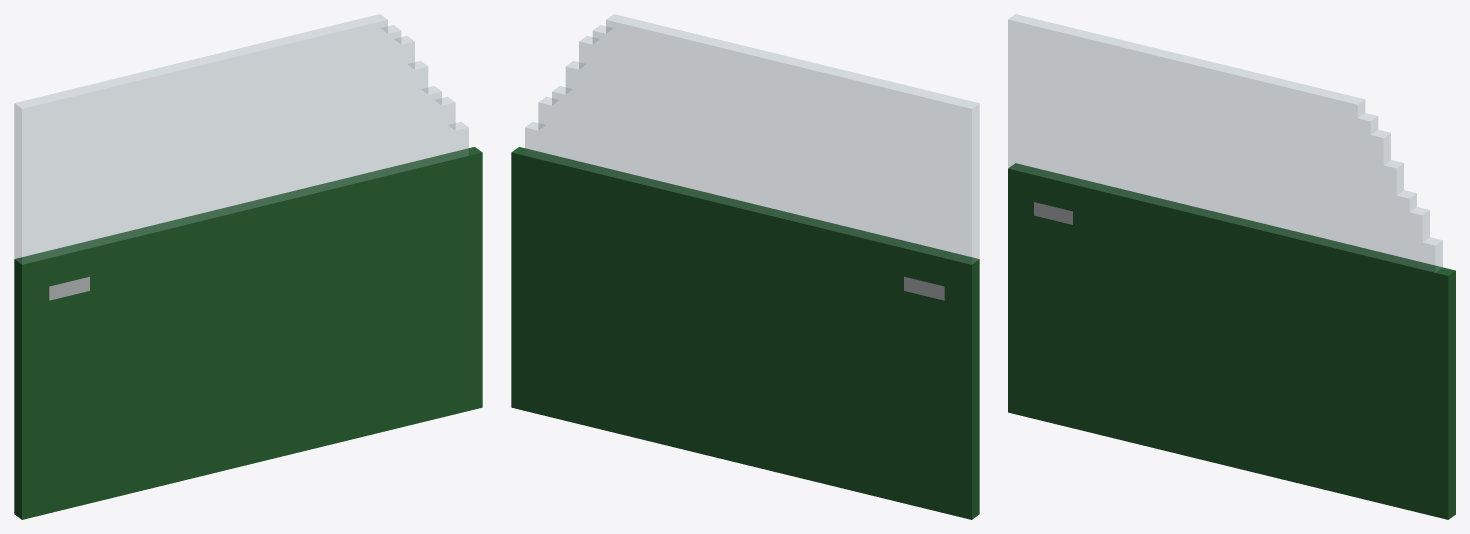
Rendered from classic_small_car_door.glb.
3 views of the same model, side by side, from view 1: azimuth 30°, elevation 25°; view 2: azimuth 150°, elevation 25°; view 3: azimuth 330°, elevation 25° (orthographic). The views are drawn at different scales.
Visible parts, largest first — view 1: body:compound; view 2: body:compound; view 3: body:compound.
Part boxes in pixels (x1=…): body:compound: x1=14, y1=14, x2=482, y2=519; body:compound: x1=511, y1=14, x2=979, y2=519; body:compound: x1=1008, y1=14, x2=1455, y2=519.
Size of the model in its own units: 1.06 by 0.9062 by 0.0312.
